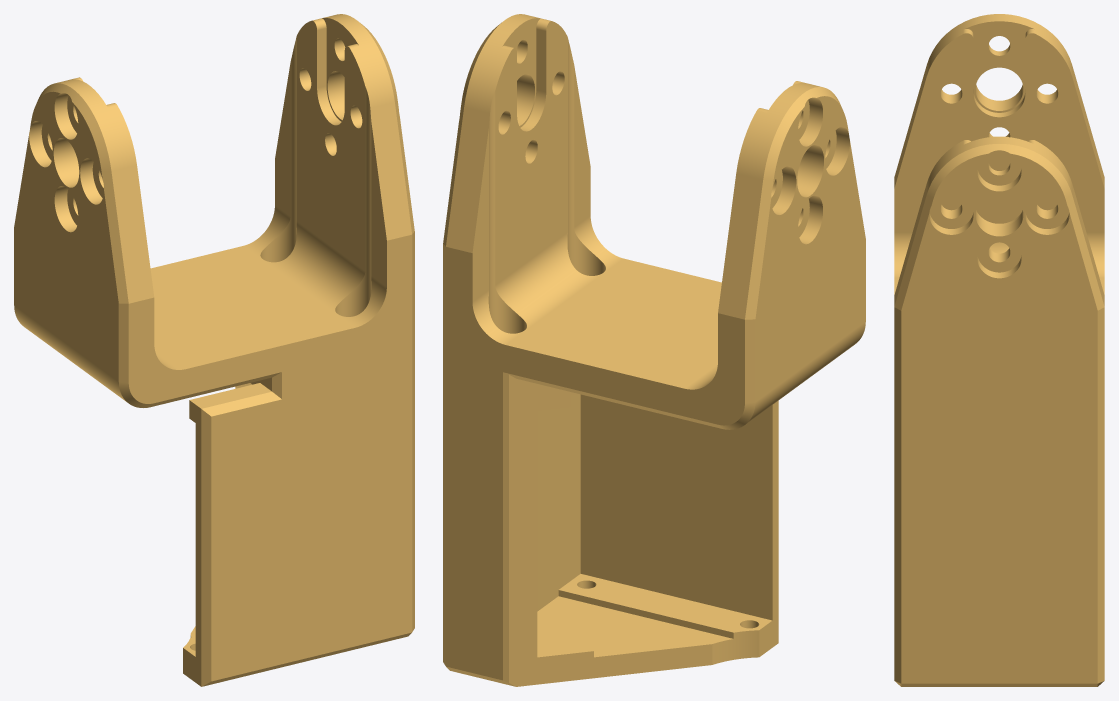
The model's file is right_roll_to_pitch.gltf.
3 renders of one model, left to right at view 1: azimuth 30°, elevation 25°; view 2: azimuth 150°, elevation 25°; view 3: azimuth 270°, elevation 25°, orthographic. The views are drawn at different scales.
Visible parts, largest first — view 1: mesh1635, mesh1661, mesh1633, mesh1644, mesh1631, mesh1637, mesh1590, mesh1598, mesh1676, mesh1666, mesh1641, mesh1592 (+18 smaller); view 2: mesh1675, mesh1636, mesh1661, mesh1633, mesh1678, mesh1644, mesh1680, mesh1682, mesh1631, mesh1638, mesh1692, mesh1629 (+24 smaller); view 3: mesh1624, mesh1669, mesh1589, mesh1619, mesh1670, mesh1584, mesh1666, mesh1641, mesh1634, mesh1585, mesh1620, mesh1582 (+10 smaller).
Boxes of the visible parts, x1,y1,x2,y2 form: mesh1635: (128,234,412,681); mesh1661: (14,91,118,381); mesh1633: (150,246,354,368); mesh1644: (296,20,365,270); mesh1631: (243,205,386,327); mesh1637: (111,165,154,303); mesh1590: (370,102,411,240); mesh1598: (201,409,211,686); mesh1676: (183,400,201,686); mesh1666: (56,79,136,171); mesh1641: (323,14,394,107); mesh1592: (335,87,371,316); mesh1675: (580,394,772,620); mesh1636: (446,247,744,680); mesh1661: (755,96,865,401); mesh1633: (506,258,721,388); mesh1678: (509,375,712,686); mesh1644: (495,21,567,284); mesh1680: (537,394,580,611); mesh1682: (537,596,732,657); mesh1631: (472,216,623,344); mesh1638: (718,173,762,319); mesh1692: (559,574,771,632); mesh1629: (446,107,489,252); mesh1624: (901,154,1097,683); mesh1669: (894,33,1104,232); mesh1589: (894,307,901,683); mesh1619: (1097,307,1104,683); mesh1670: (965,21,1033,112); mesh1584: (927,144,1071,198); mesh1666: (926,14,1072,75); mesh1641: (926,136,1072,194); mesh1634: (894,232,1104,277); mesh1585: (894,195,933,310); mesh1620: (1065,195,1104,310); mesh1582: (977,150,1021,185).
Size of the model in its own units: 0.0469 by 0.0876 by 0.0307.
